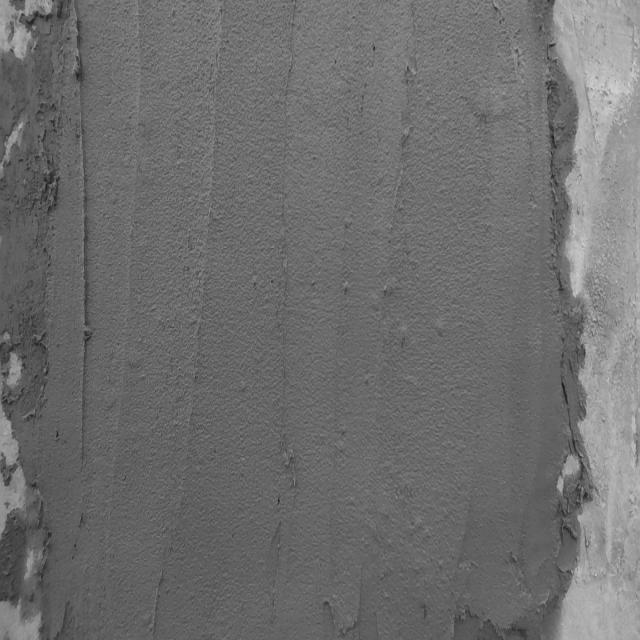trowels marks: (66, 9, 95, 477)
